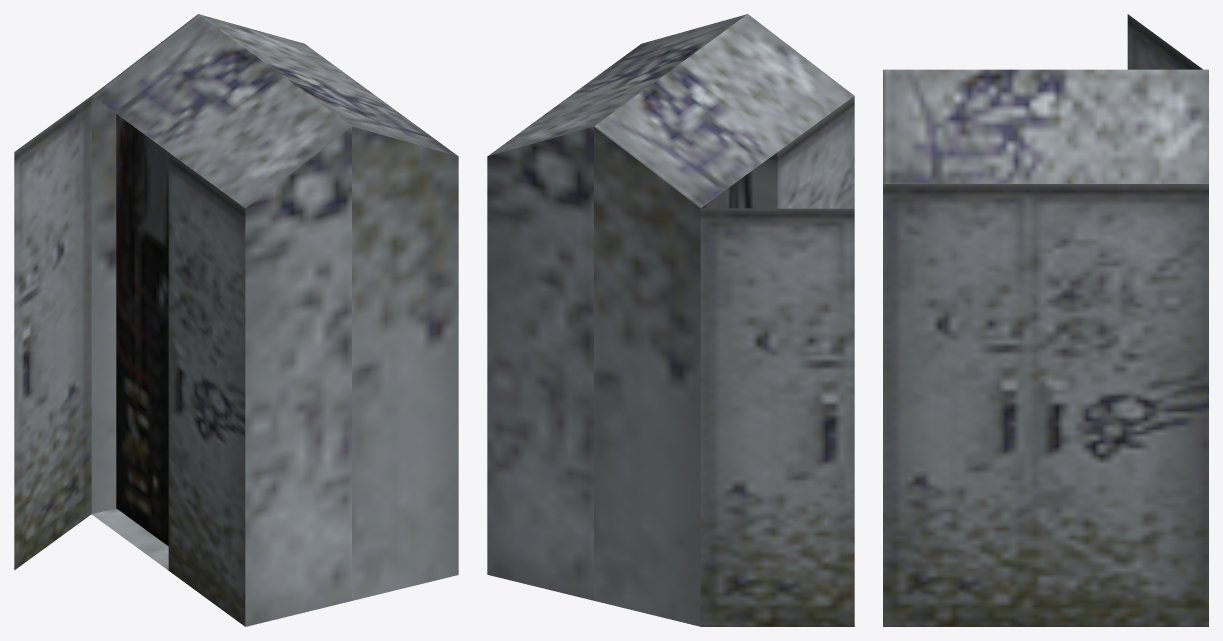
The model's file is electricalbox1.fbx.
3 renders of one model, left to right at view 1: azimuth 30°, elevation 25°; view 2: azimuth 150°, elevation 25°; view 3: azimuth 270°, elevation 25°, orthographic. The views are drawn at different scales.
Parts seen in each view (by area): view 1: electricalbox1; view 2: electricalbox1; view 3: electricalbox1.
Boxes of the visible parts, bbox=[...] form: electricalbox1: bbox=[14, 14, 458, 626]; electricalbox1: bbox=[487, 14, 854, 626]; electricalbox1: bbox=[883, 14, 1208, 626].
Size of the model in its own units: 123 by 100 by 170.
1 material, 1 textured.
